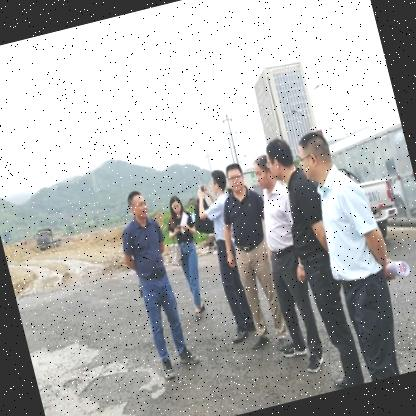sem_capacete: (293, 128, 338, 184), (261, 134, 298, 182), (250, 153, 278, 192), (125, 188, 152, 225), (224, 160, 248, 196), (206, 168, 230, 198), (166, 193, 186, 216)
sem_colete_refletivo: (306, 160, 393, 284), (275, 164, 332, 254), (113, 212, 174, 284), (216, 186, 272, 256), (254, 180, 302, 258), (196, 194, 238, 247), (162, 208, 200, 248)
